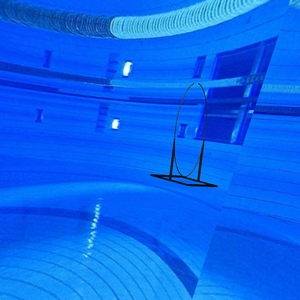circle: (149, 81, 220, 187)
